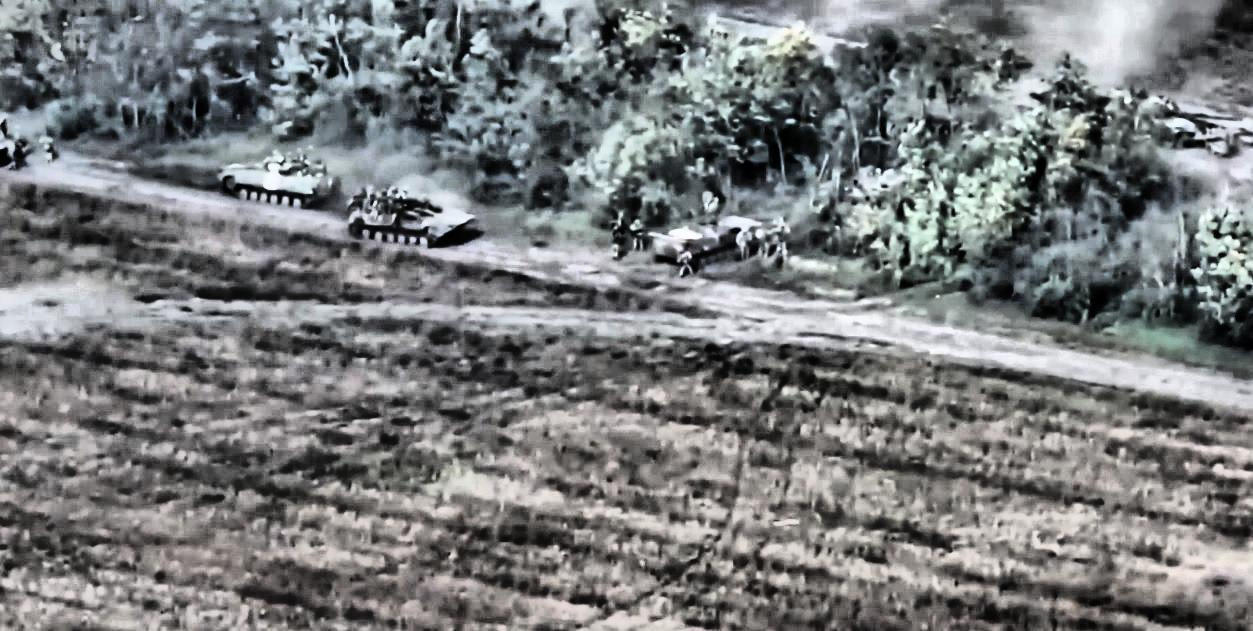military-vehicle: (344, 188, 476, 250), (214, 150, 336, 212), (654, 213, 766, 269)
